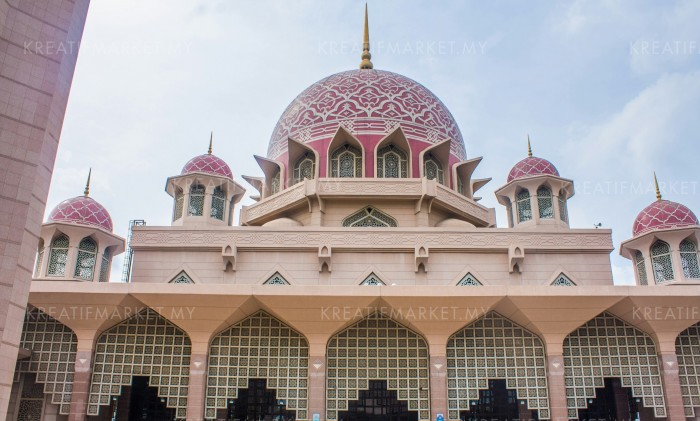Mosque: (40, 4, 694, 328)
